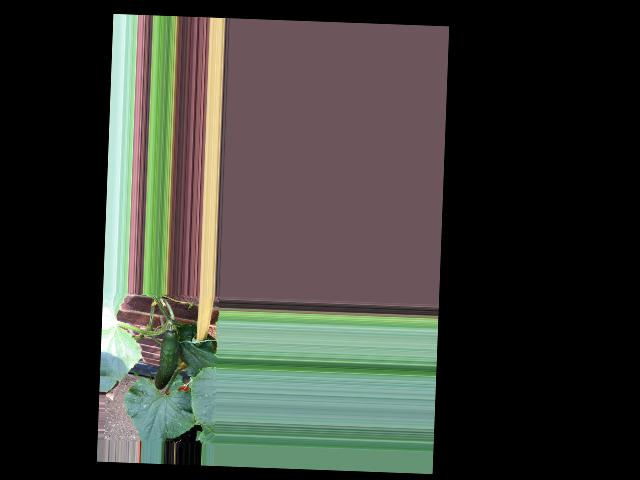cucumber: (153, 329, 179, 390)
